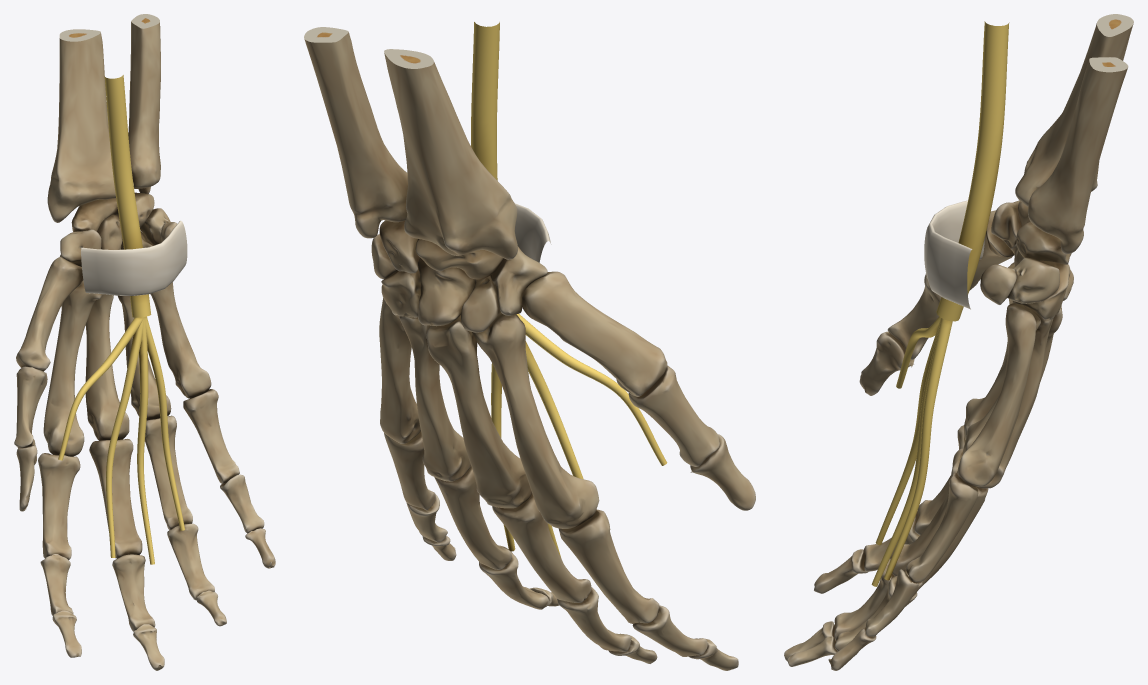
File: hand.a19be2a7.glb
3 renders of one model, left to right at view 1: azimuth 30°, elevation 25°; view 2: azimuth 150°, elevation 25°; view 3: azimuth 270°, elevation 25°, orthographic. The views are drawn at different scales.
Visible parts, largest first — view 1: Phalanges, Metacarpals, Median nerve, Distal radius, Distal ulna, Flexor retinaculum, Carpal bones, Scaphoid; view 2: Metacarpals, Phalanges, Distal radius, Distal ulna, Carpal bones, Median nerve, Scaphoid, Flexor retinaculum; view 3: Phalanges, Median nerve, Metacarpals, Distal ulna, Carpal bones, Distal radius, Flexor retinaculum.
Boxes of the visible parts, box(x1,y1,x2,y2) form: Phalanges: box(14, 366, 275, 670); Metacarpals: box(16, 256, 211, 456); Median nerve: box(58, 75, 185, 564); Distal radius: box(47, 29, 133, 222); Distal ulna: box(128, 14, 160, 193); Flexor retinaculum: box(81, 220, 187, 295); Carpal bones: box(60, 192, 176, 266); Scaphoid: box(71, 198, 117, 231); Metacarpals: box(379, 271, 667, 528); Phalanges: box(384, 365, 755, 670); Distal radius: box(384, 49, 517, 259); Distal ulna: box(304, 27, 407, 238); Carpal bones: box(371, 220, 547, 332); Median nerve: box(471, 22, 667, 558); Scaphoid: box(415, 239, 503, 279); Flexor retinaculum: box(515, 203, 551, 262); Phalanges: box(784, 275, 988, 670); Median nerve: box(871, 21, 1009, 586); Metacarpals: box(925, 210, 1062, 488); Distal ulna: box(1028, 57, 1128, 254); Carpal bones: box(980, 200, 1073, 319); Distal radius: box(1015, 14, 1133, 206); Flexor retinaculum: box(924, 200, 984, 309).
Bounding box in the file's own units: 1.75 × 3.61 × 1.71.
